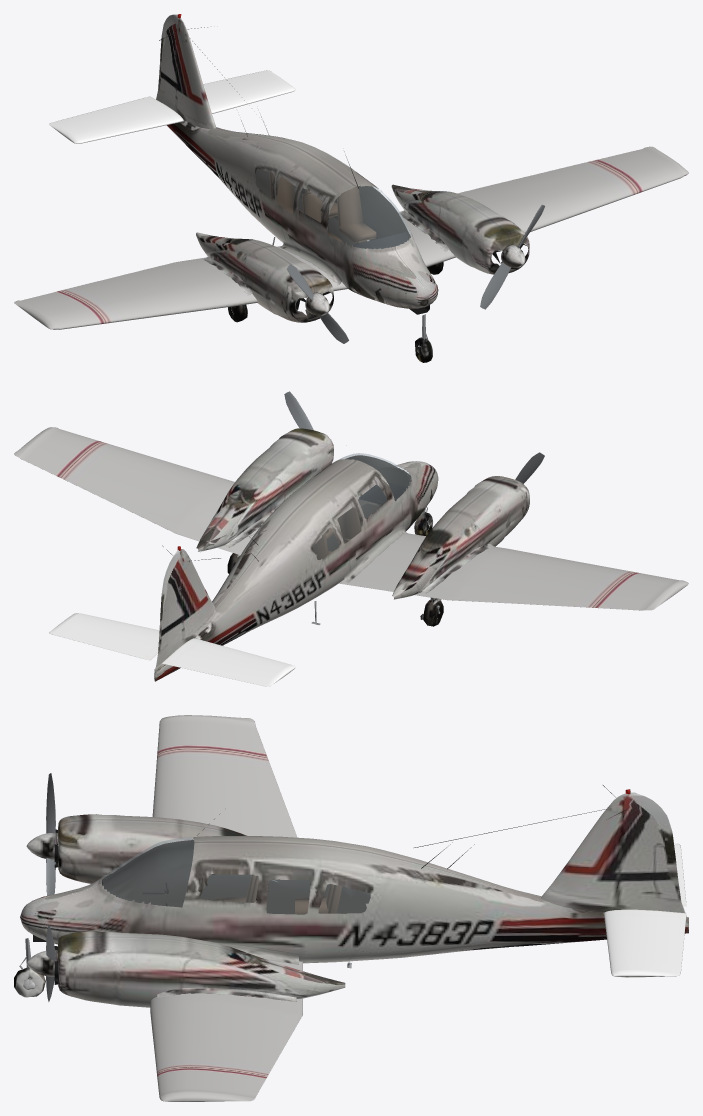
3 views of the same model, one above another, from view 1: azimuth 30°, elevation 25°; view 2: azimuth 150°, elevation 25°; view 3: azimuth 270°, elevation 25° (orthographic). The views are drawn at different scales.
Visible parts, largest first — view 1: object 1, object 2, fuselage_glass; view 2: object 1, object 2, fuselage_glass; view 3: object 1, object 2, fuselage_glass.
Boxes of the visible parts, left/top/right/bottom form: object 1: left=14, top=14, right=688, bottom=329; object 2: left=159, top=14, right=544, bottom=362; fuselage_glass: left=256, top=169, right=411, bottom=248; object 1: left=14, top=427, right=688, bottom=686; object 2: left=162, top=391, right=544, bottom=626; fuselage_glass: left=313, top=453, right=411, bottom=559; object 1: left=20, top=715, right=688, bottom=1101; object 2: left=14, top=773, right=630, bottom=1001; fuselage_glass: left=102, top=837, right=370, bottom=914.
Bounding box in the file's own units: 11.28 × 2.85 × 8.4.
Materials: 18 (2 with a texture image).
